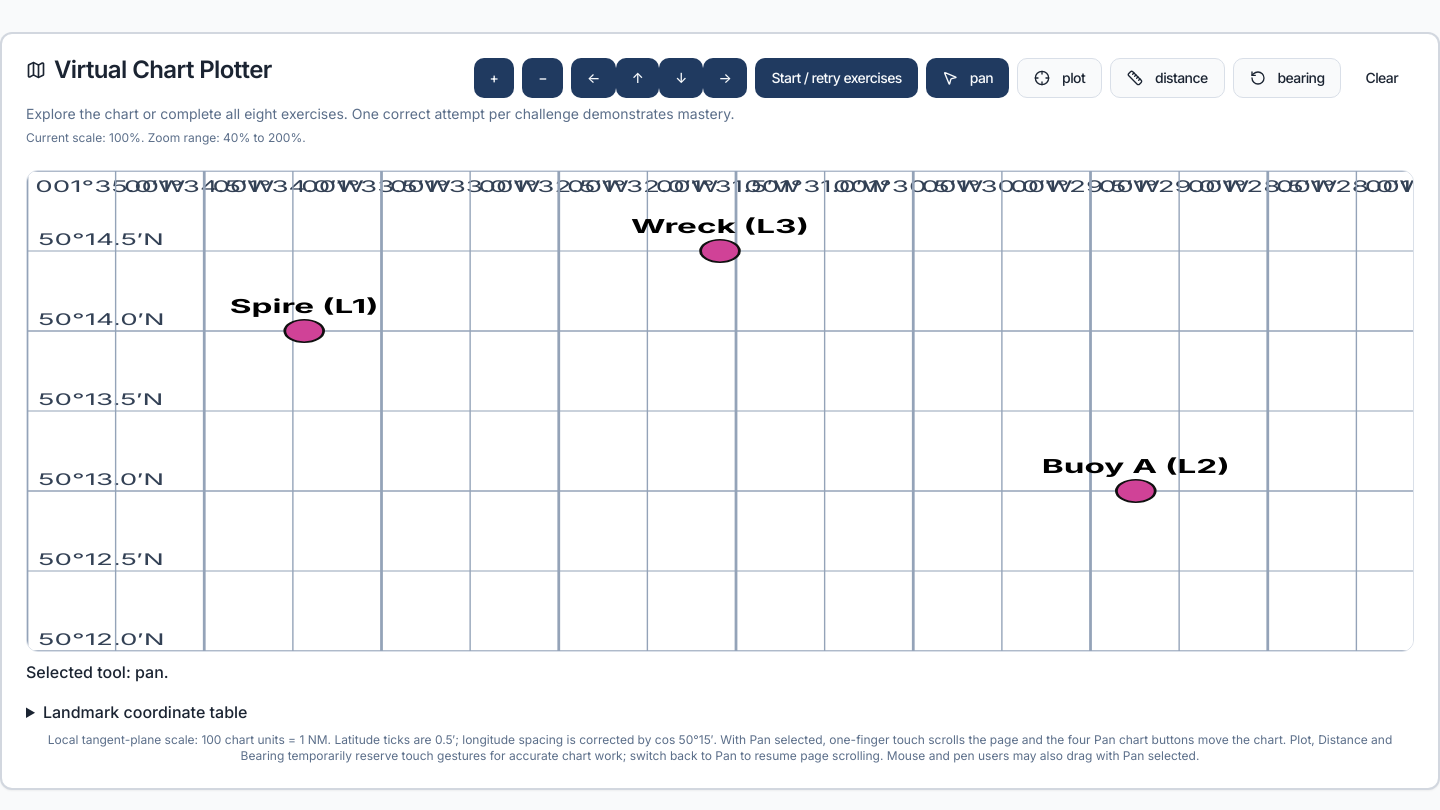
Test case: VirtualChartPlotter access paths › updates the viewBox through pan and zoom controls
The image size is (1440, 810).
Click the button named "pan chart east". click: coordinates (725, 78)
box: [703, 58, 747, 98]
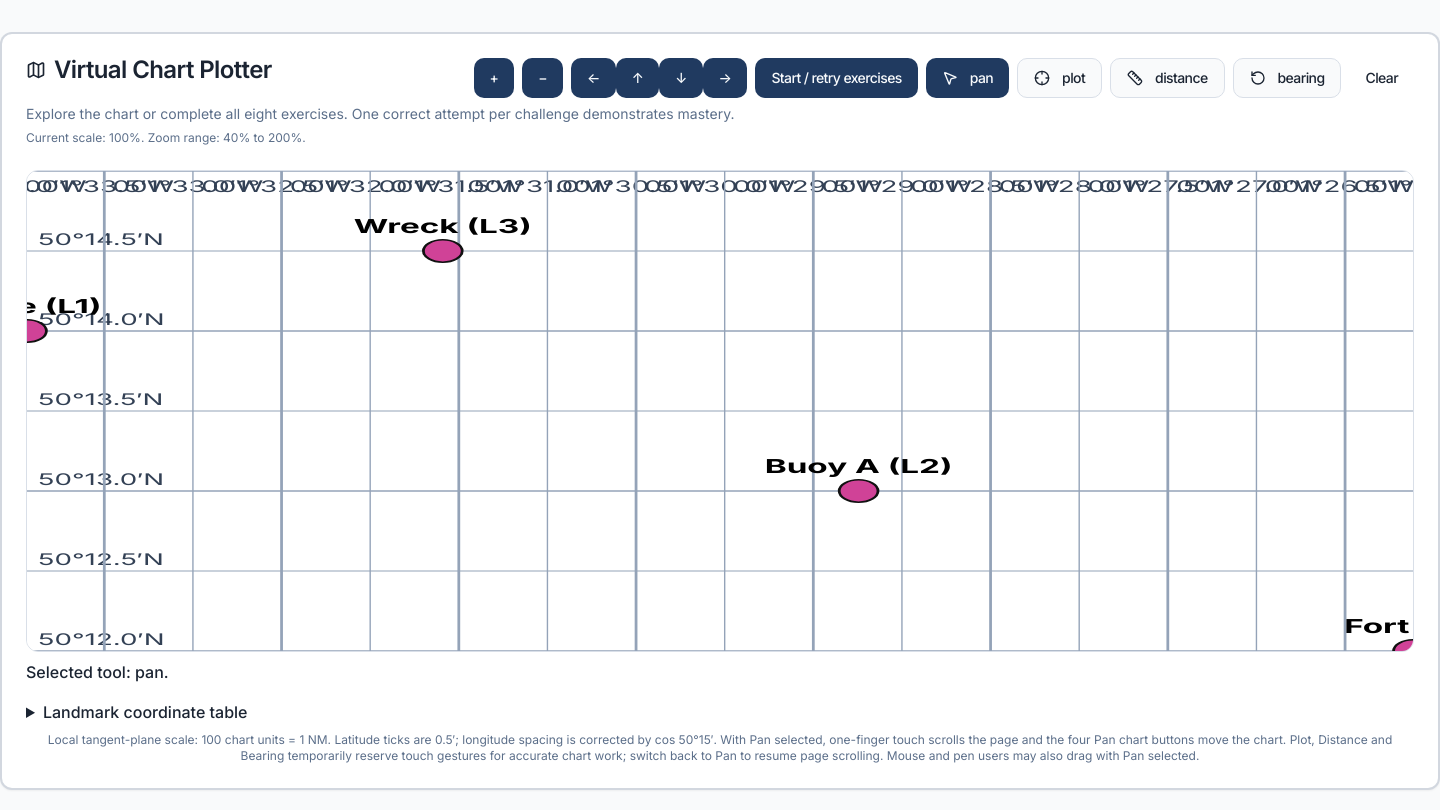
Expected: the picture has attribute viewBox="100 0 500 300", [27, 171, 1413, 651]
Click the button named "zoom out". click: coordinates (543, 78)
box: [522, 58, 563, 98]
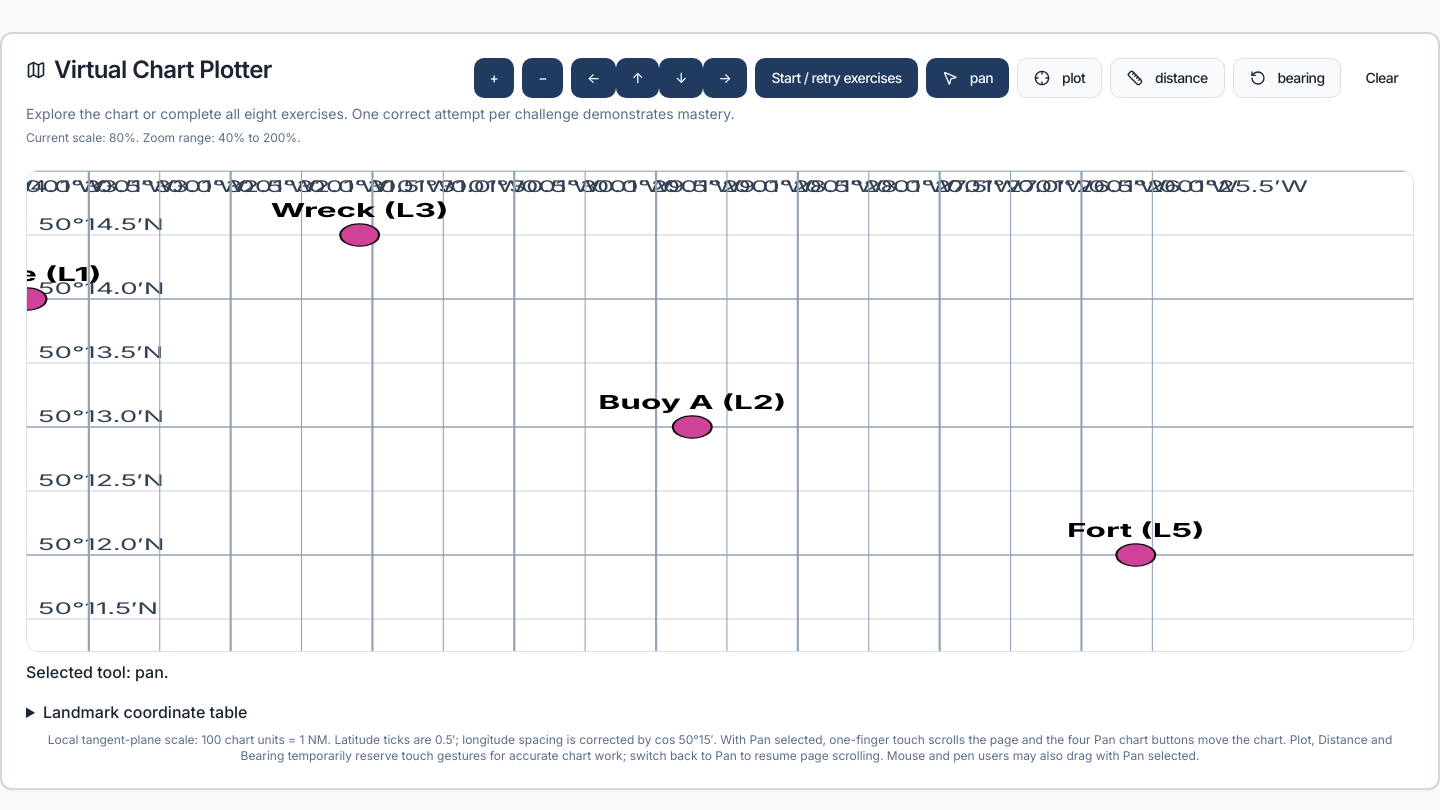
Expected: the message shows "Current scale: 80%", [26, 130, 301, 145]
